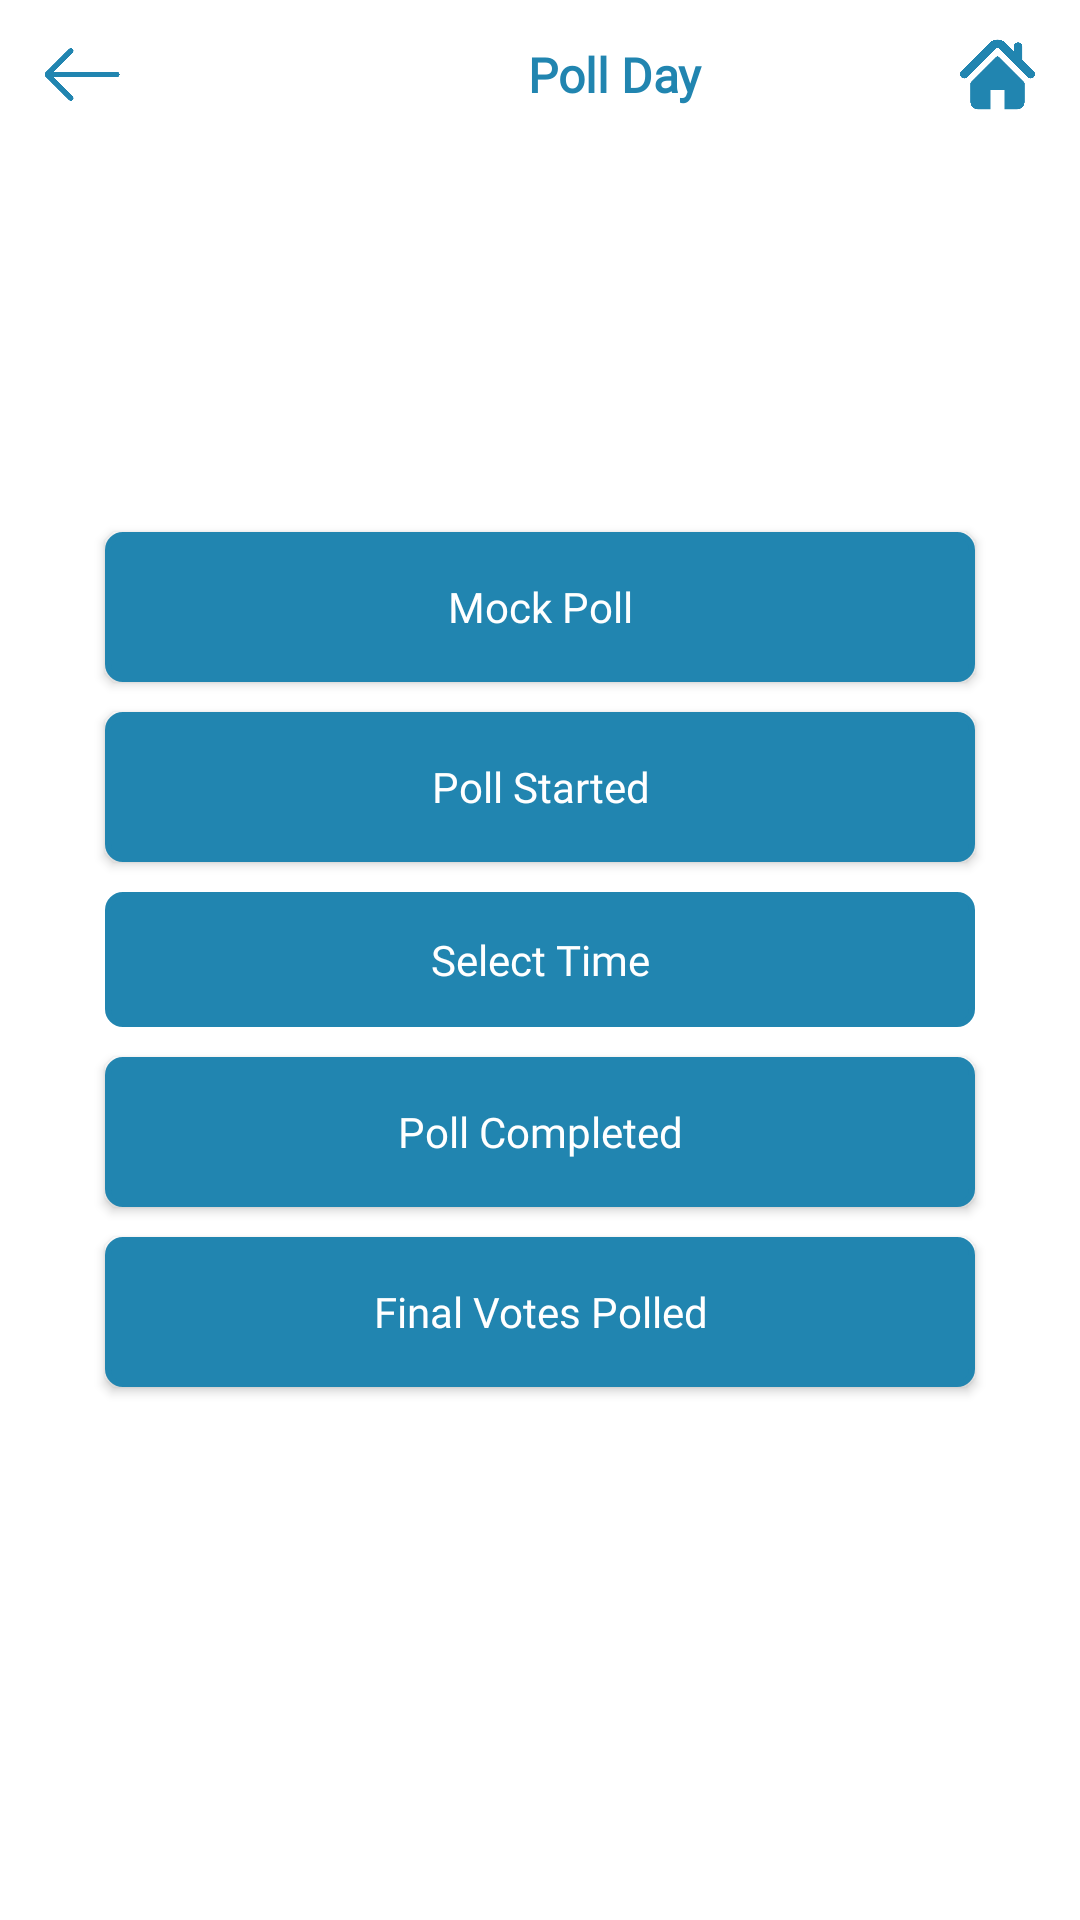

Locate icon controls on the screen. Image size 1080×1920, boxes as (x1, y1, x2, y2).
back: (45, 48, 120, 101)
home: (960, 39, 1035, 110)
